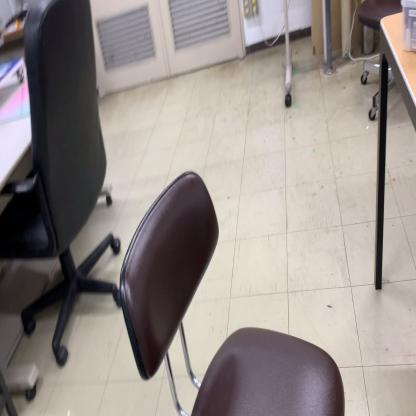chair: (118, 170, 345, 416), (3, 2, 122, 368)
